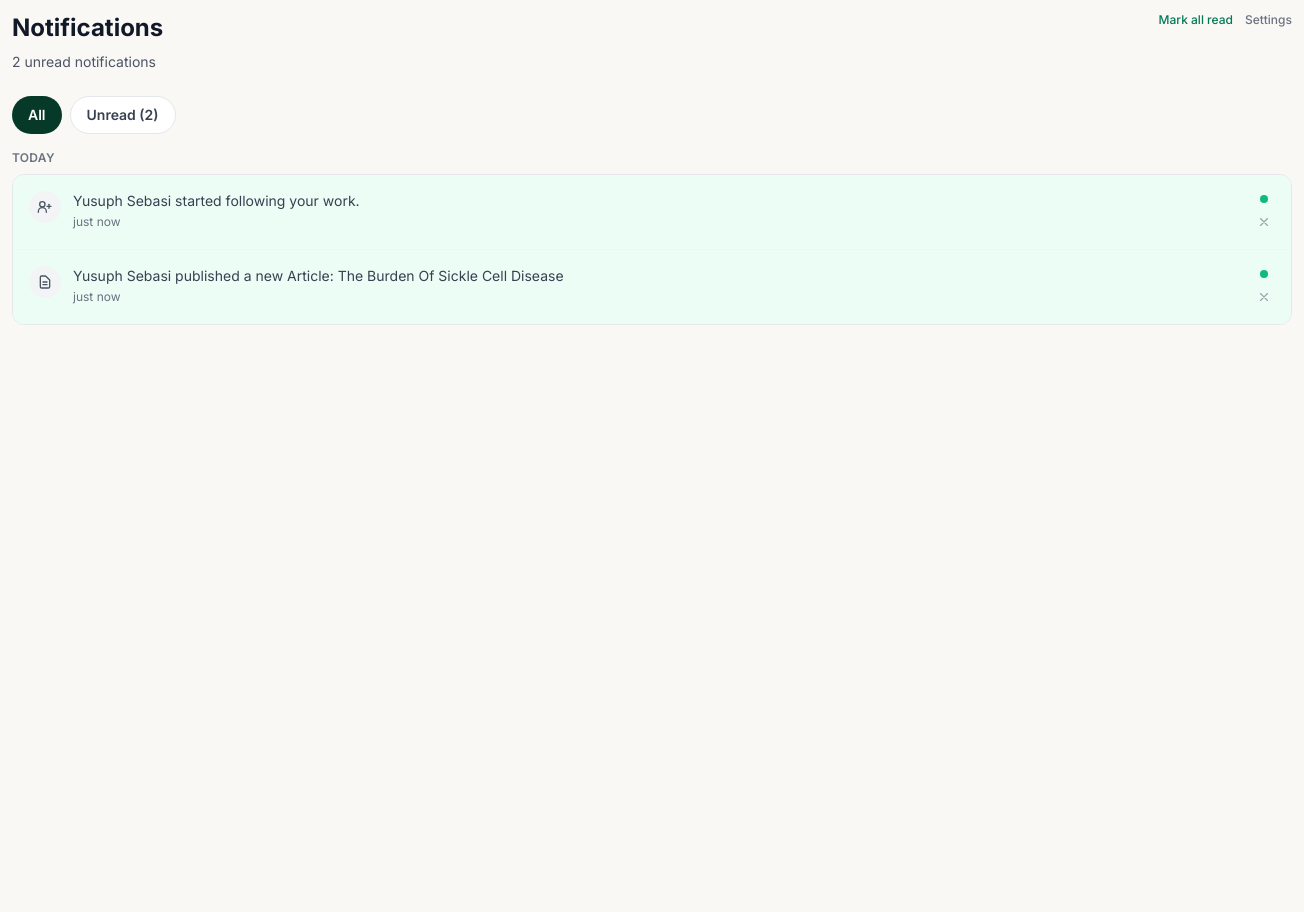
mark all read › restores the unread state when the bulk write fails
Click the button "Mark all read". click: x=1196, y=20
box: top-left (1158, 12), bottom-right (1233, 28)
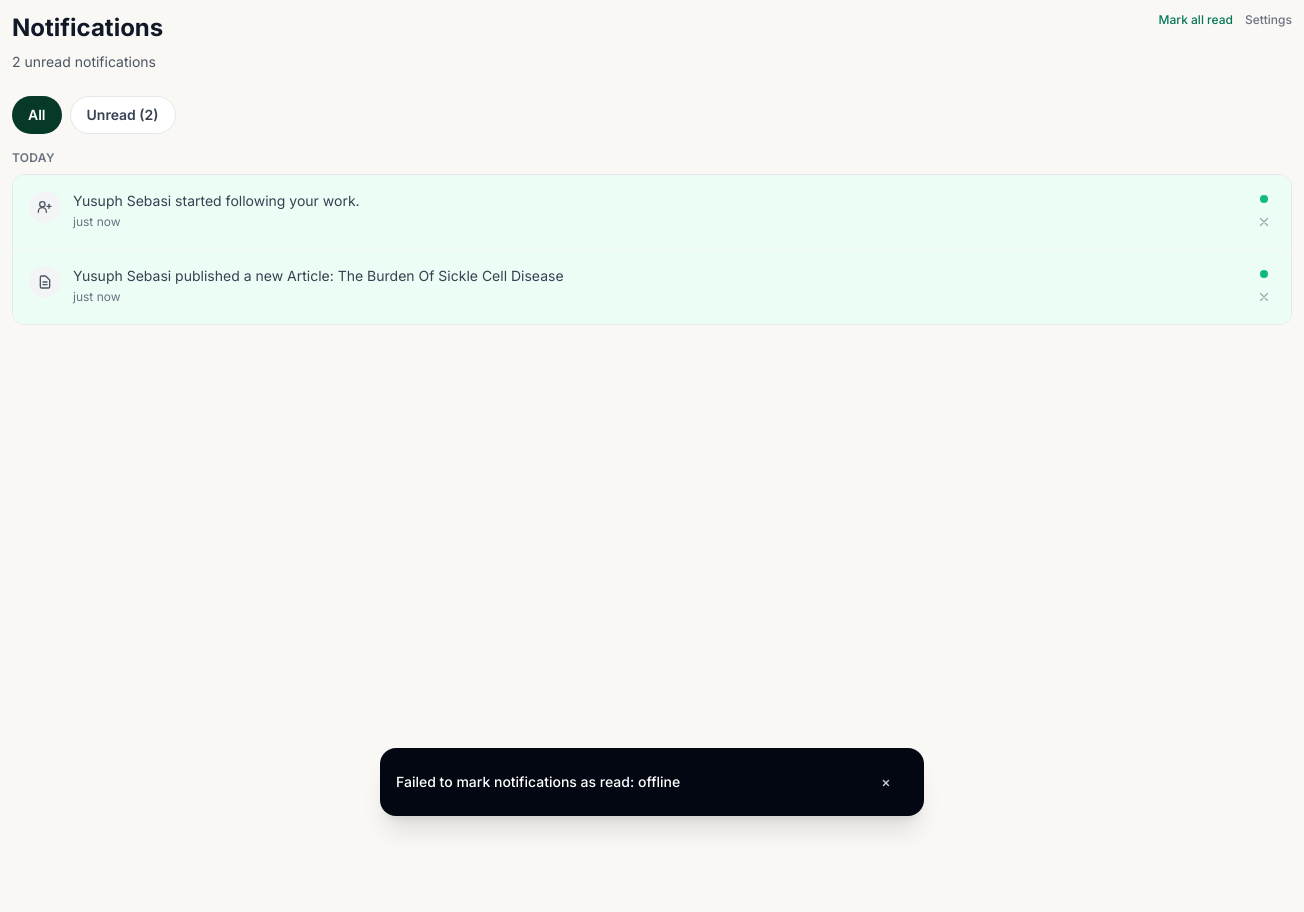
Expected: the text "2 unread notifications" is shown, top-left (12, 52), bottom-right (163, 72)
Now the message shows "Failed to mark", box top-left (396, 773), bottom-right (680, 790)
